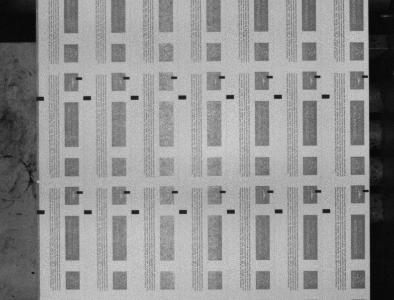backgroundclutter: (31, 271, 35, 274)
qblock: (179, 209, 188, 214), (274, 94, 282, 99), (131, 95, 139, 100), (227, 209, 235, 214), (36, 96, 44, 101), (178, 95, 187, 99), (131, 210, 140, 214), (226, 95, 234, 99), (37, 210, 45, 214), (84, 210, 92, 214), (83, 96, 91, 100), (275, 209, 283, 213), (322, 94, 330, 98), (323, 209, 331, 213)
smallqblock: (219, 75, 226, 79), (267, 75, 273, 79), (123, 76, 130, 79), (171, 76, 178, 79), (124, 191, 131, 194), (267, 190, 274, 193), (363, 189, 370, 192), (315, 190, 322, 193), (363, 75, 369, 78), (172, 190, 178, 193), (315, 75, 321, 78), (76, 77, 82, 80), (220, 190, 226, 193), (77, 191, 83, 194)
